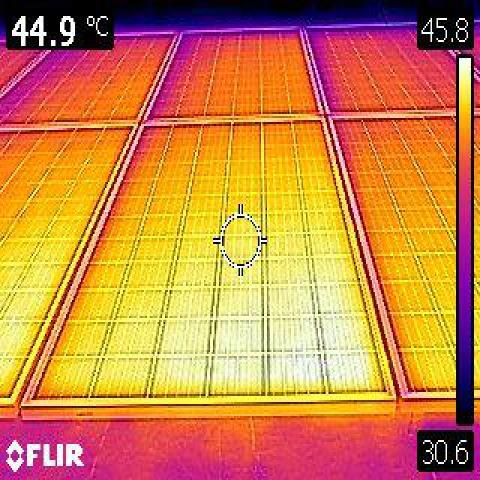fault: (295, 312, 352, 387)
